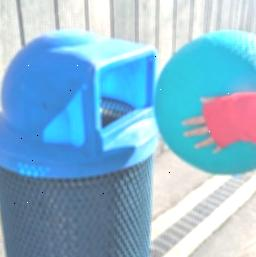algae: (152, 27, 256, 172)
